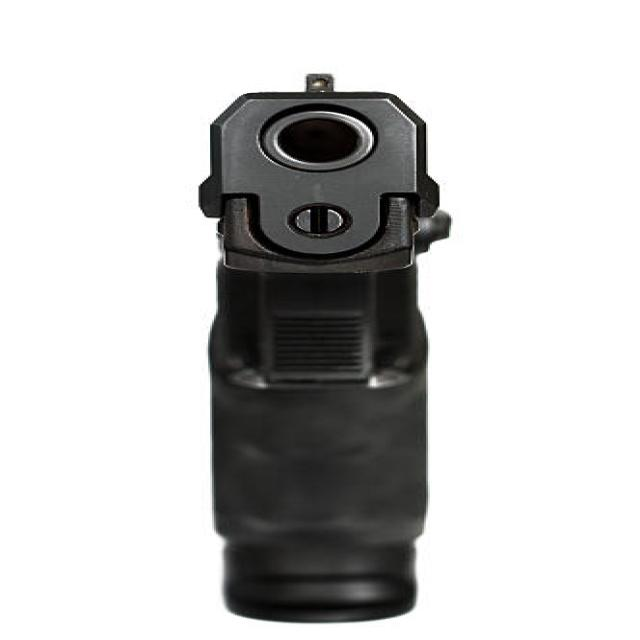pistol: (190, 66, 467, 634)
